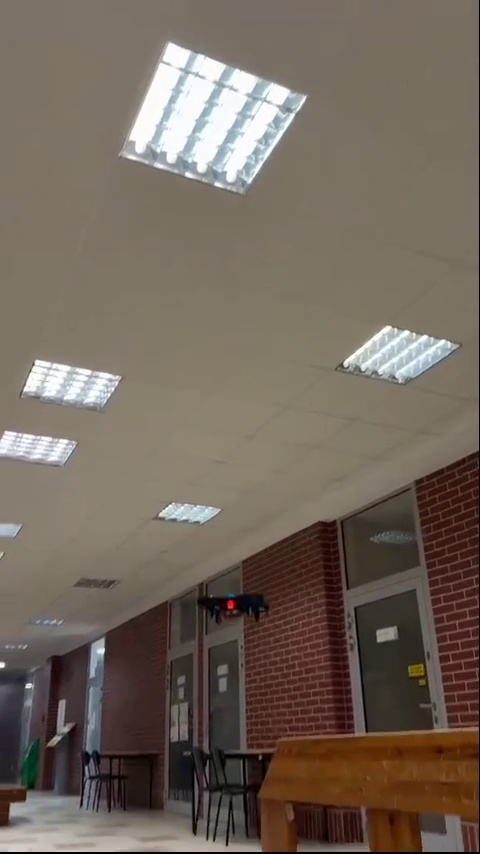drone: (198, 590, 265, 625)
